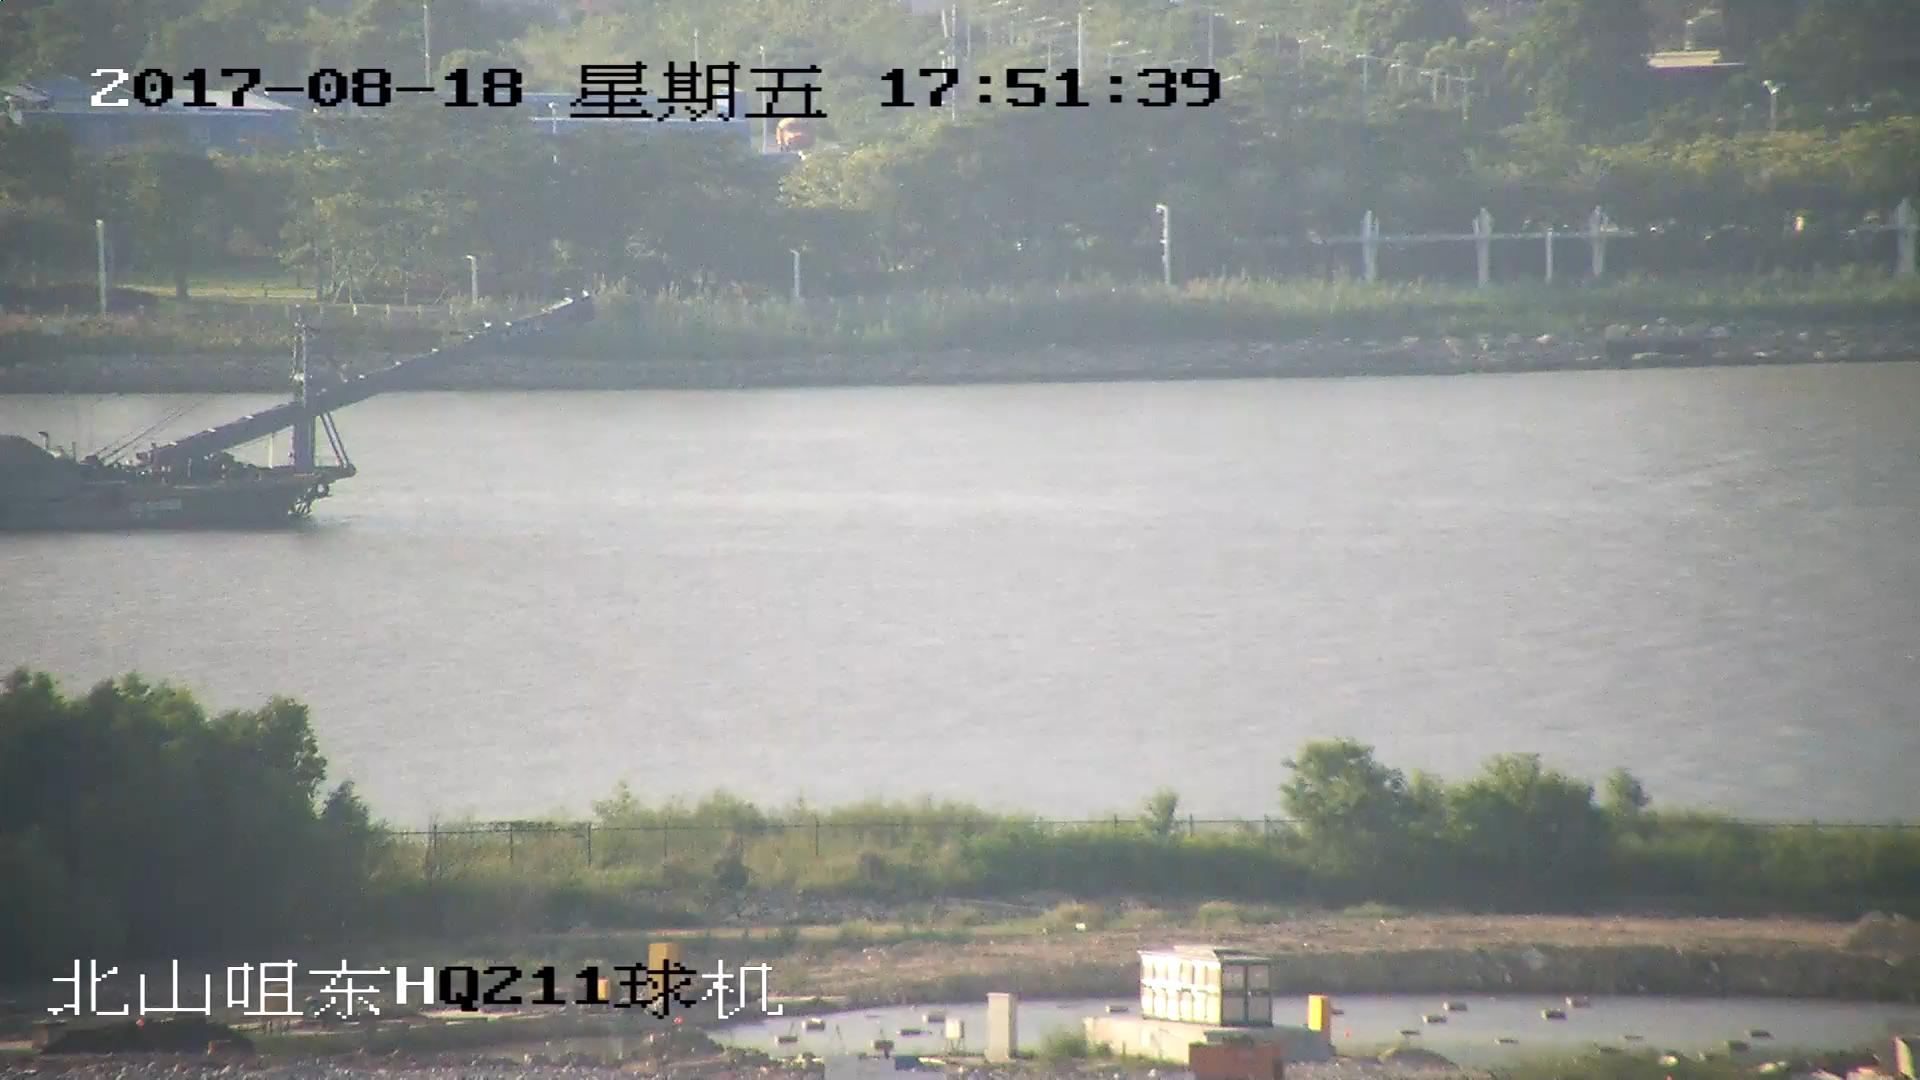ore carrier: (1, 297, 589, 532)
